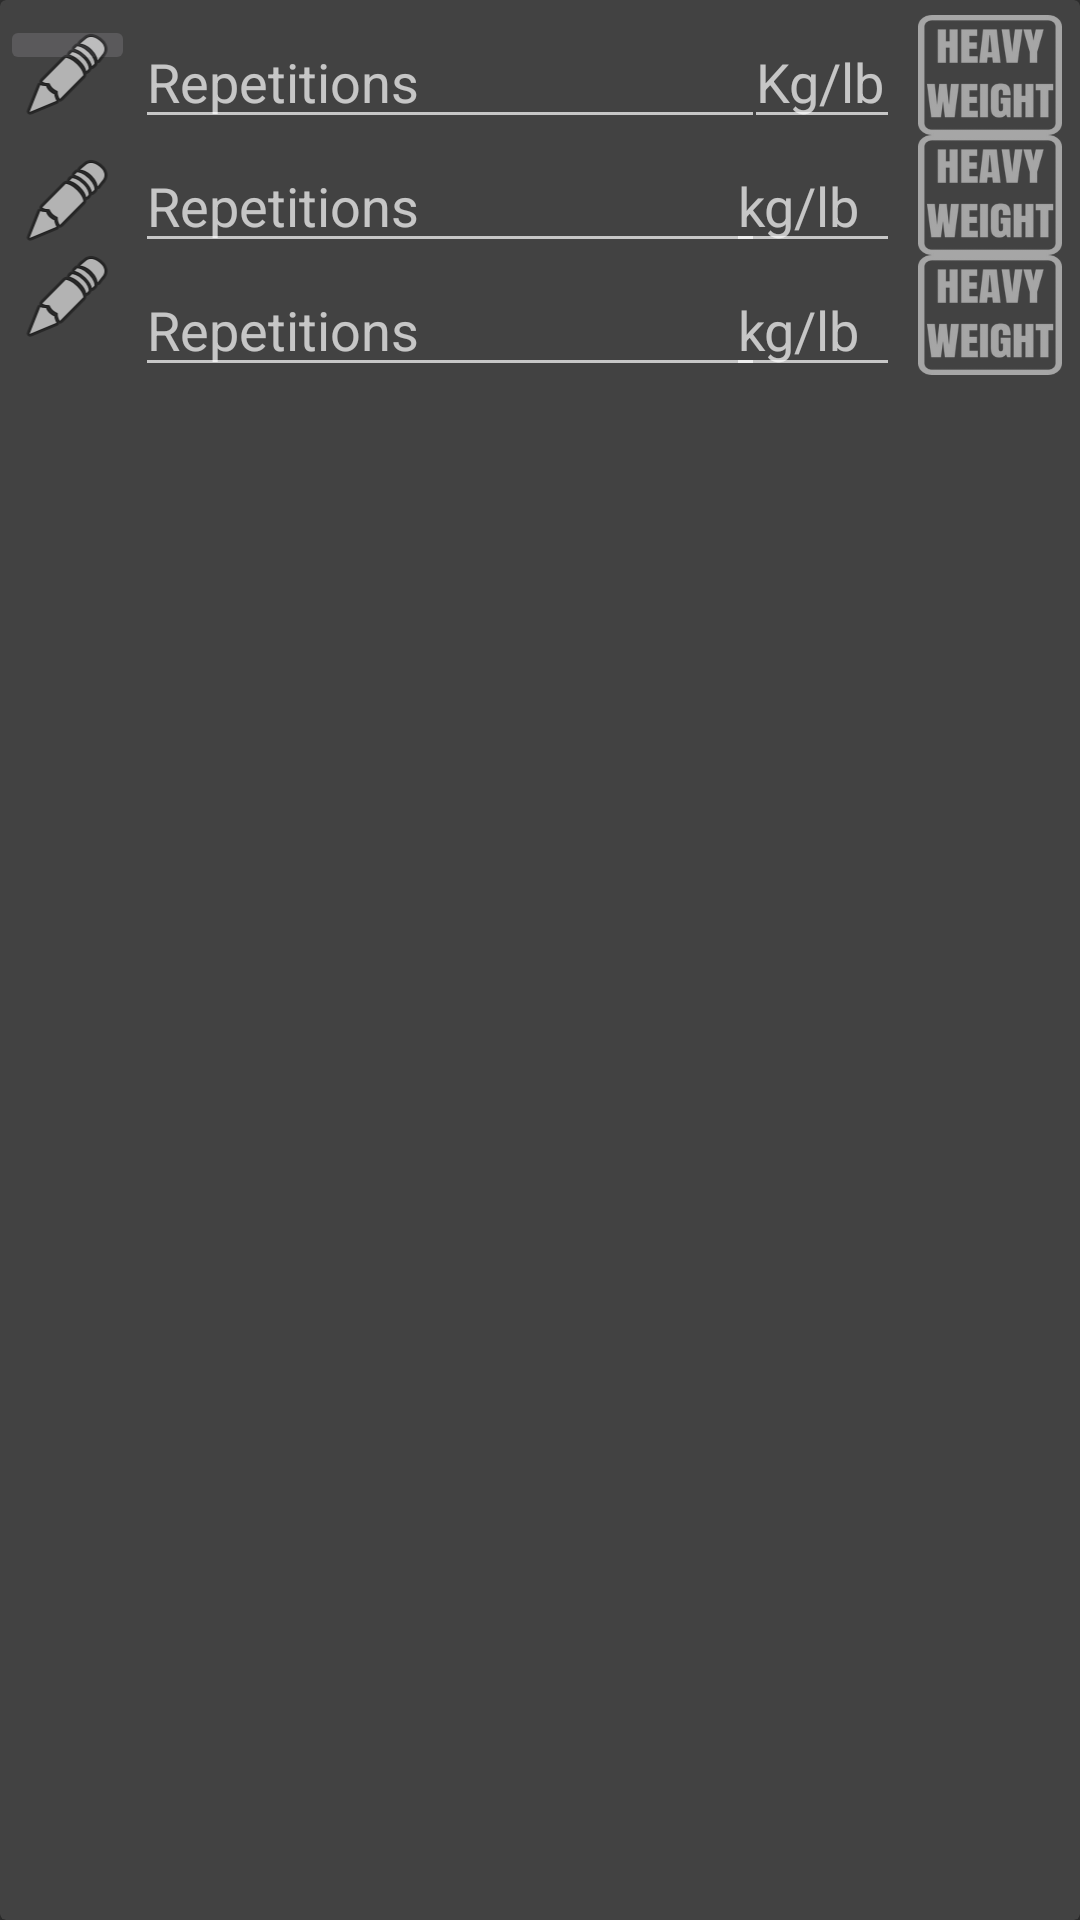

Icons on this 1080x1920 Android screen, each with the point to tap as (x,y):
edit: (67,73), (67,200), (67,296)
